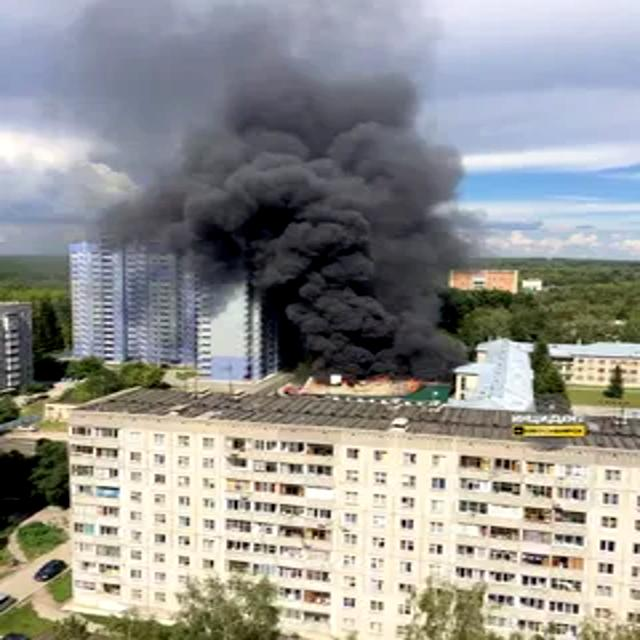Smoke: (102, 76, 470, 380)
